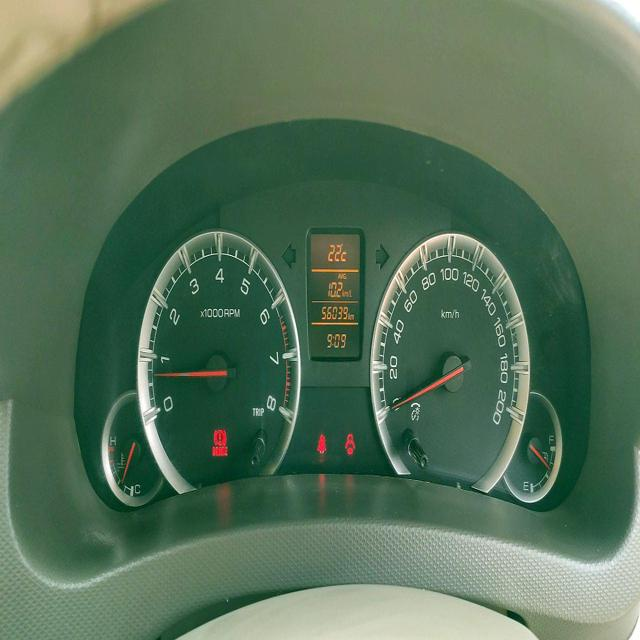odometer: (320, 304, 348, 322)
